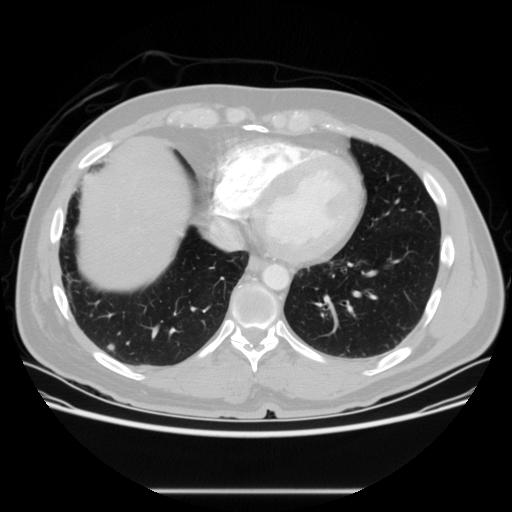nodule: (104, 341, 117, 354)
